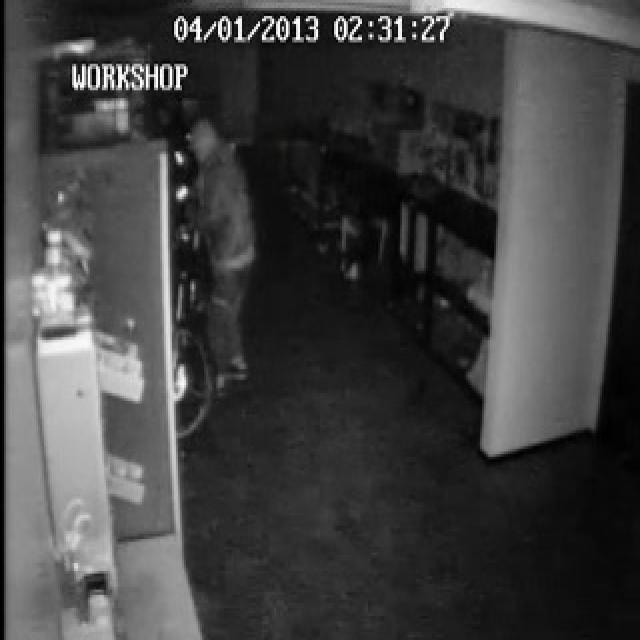thief: (173, 107, 264, 323)
